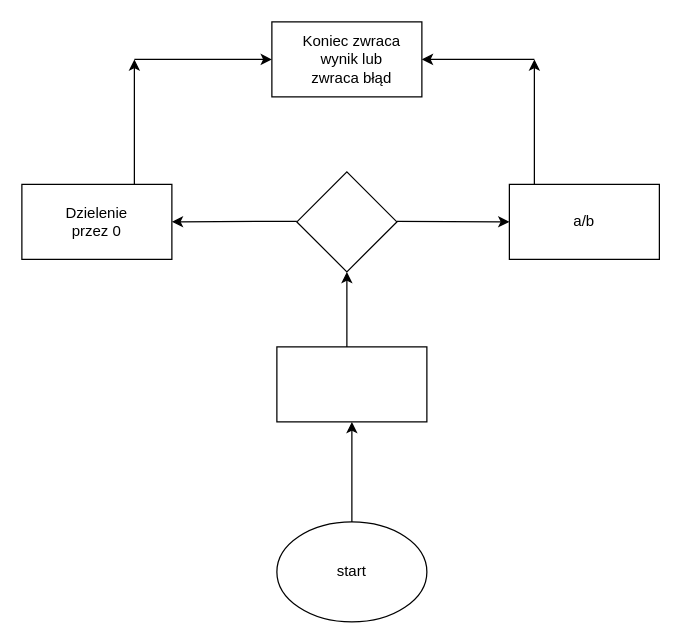
The diagram is 681 pixels wide and 644 high, and some of its shapes have lost their labels. Here are the shapes that lost their labels. From the top down, the box of each, then its label:
(296, 171, 397, 272): Warunek sprawdza czy liczba nie jest zerem
(276, 346, 427, 422): Pobiera dane a i b
